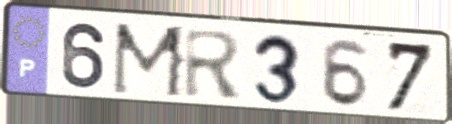3: (251, 31, 308, 108)
6: (318, 38, 371, 110), (60, 22, 109, 93)
7: (383, 39, 437, 114)
M: (109, 21, 190, 102)
R: (182, 26, 246, 101)
